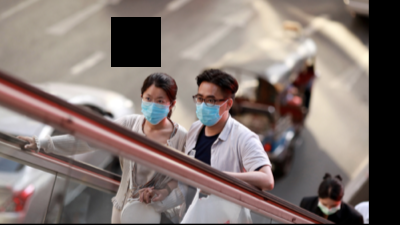with_mask: (193, 91, 225, 124), (139, 95, 170, 123), (316, 199, 340, 214)
